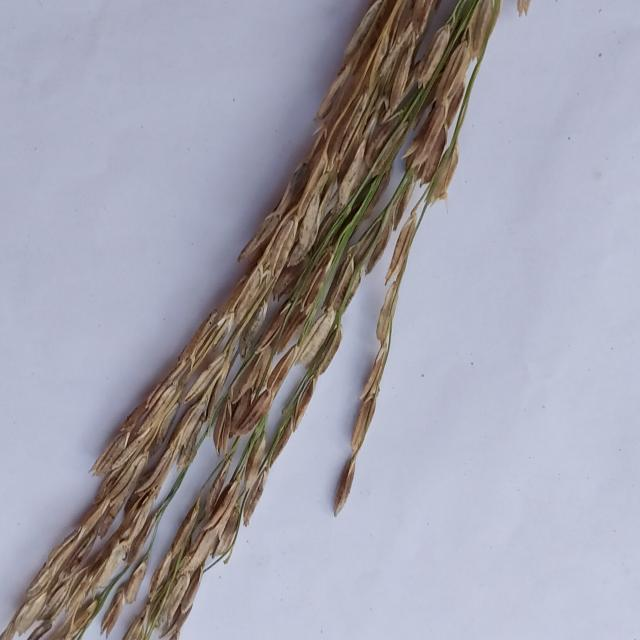Neck_Blast: (1, 2, 435, 640), (127, 237, 385, 640), (334, 0, 512, 507)
